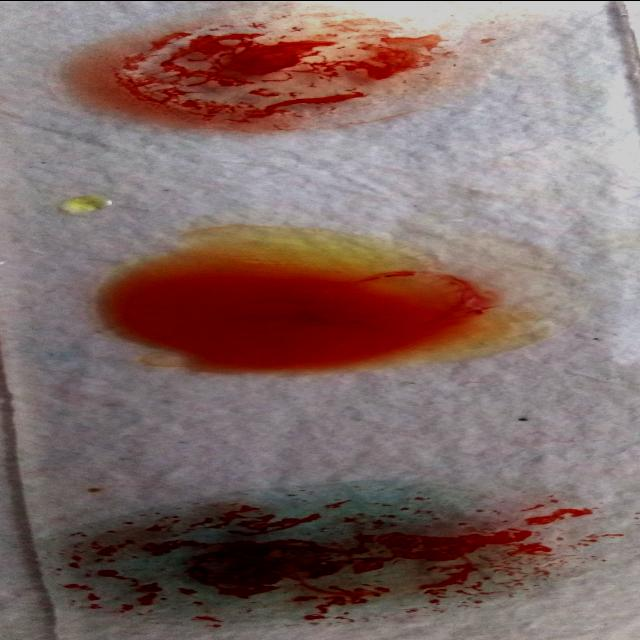A: (49, 486, 606, 625)
D: (67, 8, 471, 134)
